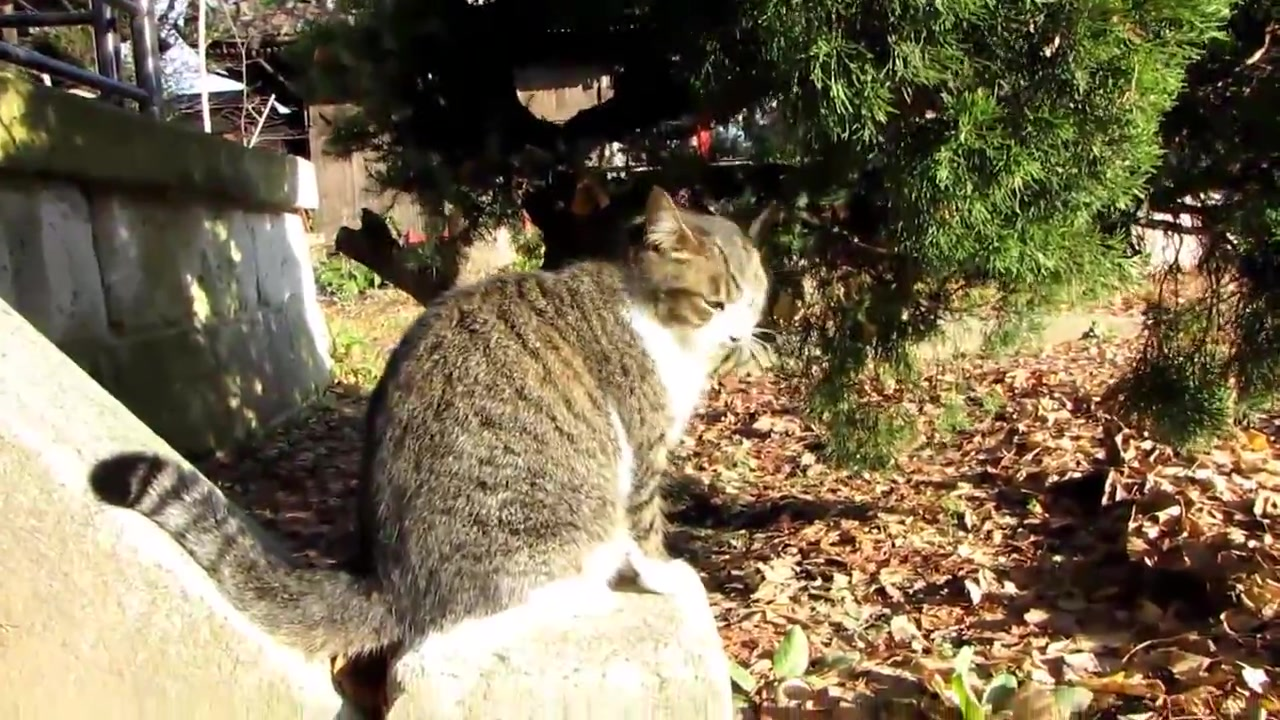cat: (90, 188, 775, 669)
